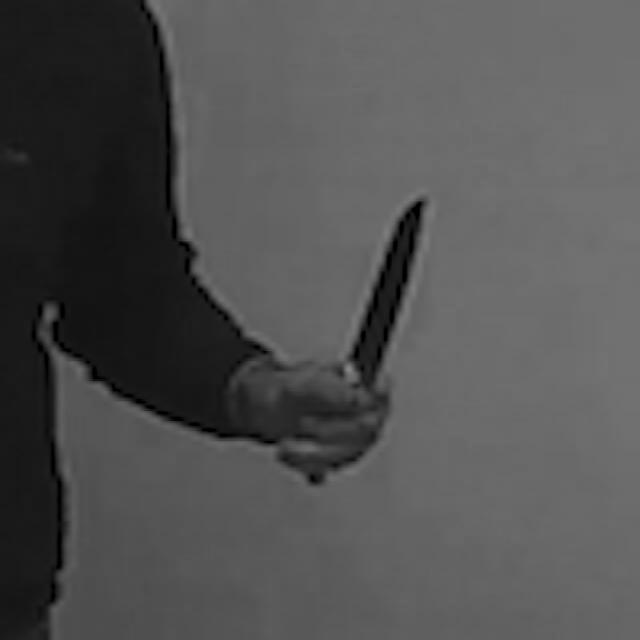weapon: (346, 188, 437, 392)
